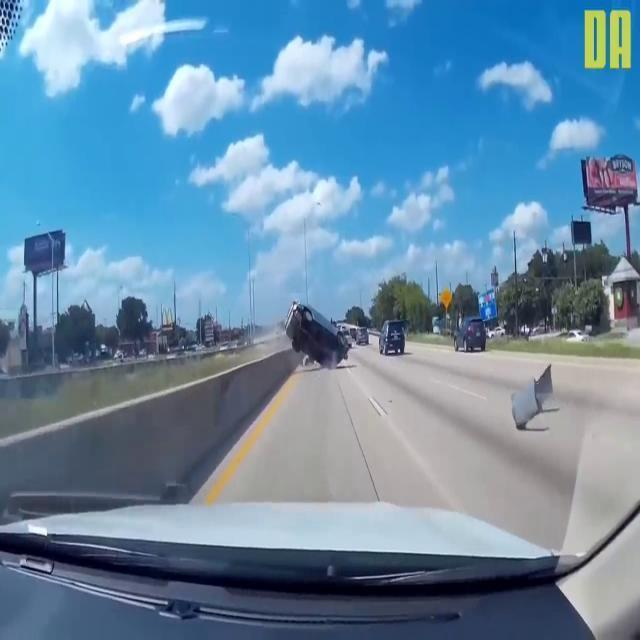accident: (285, 304, 351, 372)
